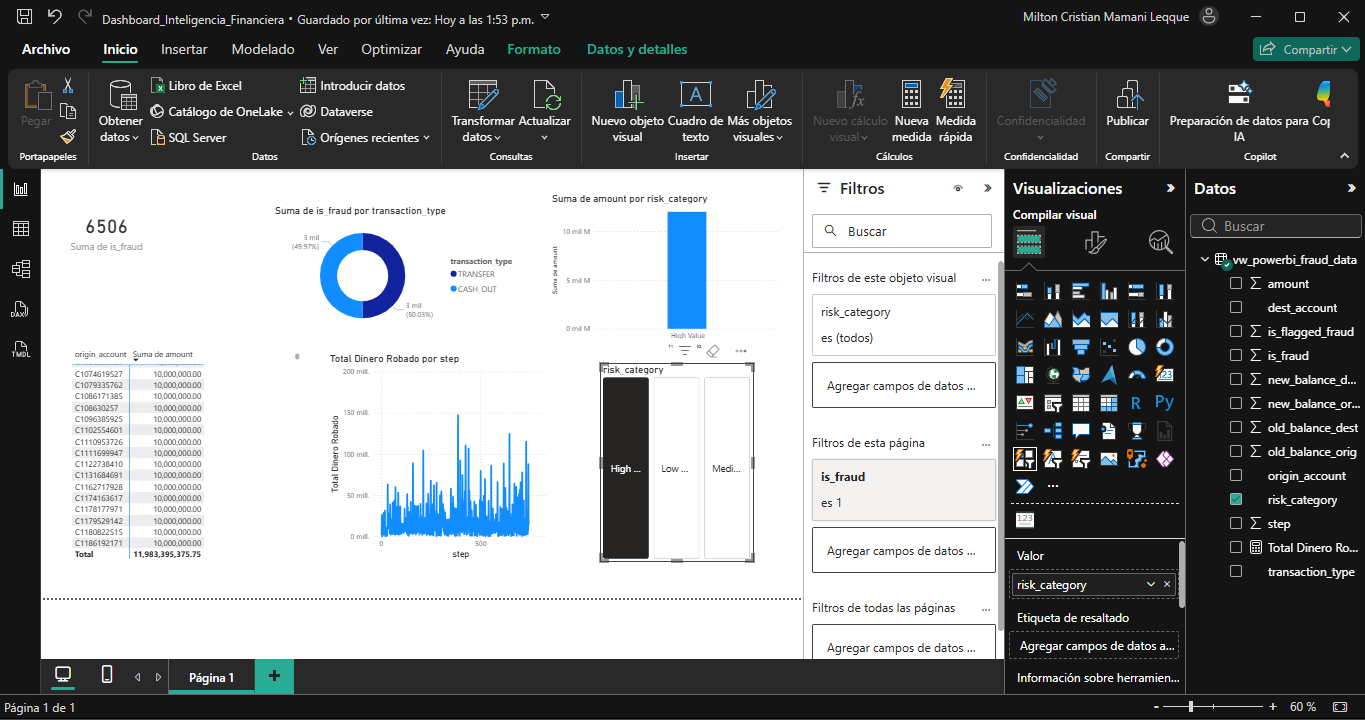

Layout of this report page (visuals, bound fields, positions):
{"tool":"powerbi","page":{"name":"Página 1","canvas":[1280,720],"ordinal":0},"visuals":[{"type":"advanceCardE03760C5AB684758B56AA29F9E6C257B","fields":{"mainMeasure":["Sum(vw_powerbi_fraud_data.is_fraud)"]},"box":[10.1,0,199.9,215],"z":0},{"type":"donutChart","fields":{"Category":["vw_powerbi_fraud_data.transaction_type"],"Y":["Sum(vw_powerbi_fraud_data.is_fraud)"]},"box":[388,58.8,423.3,221.7],"z":1000},{"type":"clusteredColumnChart","fields":{"Category":["vw_powerbi_fraud_data.risk_category"],"Y":["Sum(vw_powerbi_fraud_data.amount)"]},"box":[853.3,38.6,393.1,268.8],"z":2000},{"type":"pivotTable","fields":{"Values":["Sum(vw_powerbi_fraud_data.amount)"],"Rows":["vw_powerbi_fraud_data.origin_account"]},"box":[47,295.6,393.1,364.5],"z":2001},{"type":"lineChart","fields":{"Y":["vw_powerbi_fraud_data.Total Dinero Robado"],"Category":["vw_powerbi_fraud_data.step"]},"box":[480.4,307.4,372.9,352.8],"z":2002},{"type":"advancedSlicerVisual","fields":{"Values":["vw_powerbi_fraud_data.risk_category"]},"box":[939,325.9,258.7,334.3],"z":2003}]}

Visuals, with their boxes on the page's 1280x720 design canvas (x1, y1, x2, y2). These are canvas units, not pixel positions in the 1365x720 screenshot, which may show the page scaled, cropped or inside an application window:
advanceCardE03760C5AB684758B56AA29F9E6C257B - Sum(vw_powerbi_fraud_data.is_fraud): BBox(10, 0, 210, 215)
donutChart - vw_powerbi_fraud_data.transaction_type x Sum(vw_powerbi_fraud_data.is_fraud): BBox(388, 59, 811, 280)
clusteredColumnChart - vw_powerbi_fraud_data.risk_category x Sum(vw_powerbi_fraud_data.amount): BBox(853, 39, 1246, 307)
pivotTable - Sum(vw_powerbi_fraud_data.amount) x vw_powerbi_fraud_data.origin_account: BBox(47, 296, 440, 660)
lineChart - vw_powerbi_fraud_data.Total Dinero Robado x vw_powerbi_fraud_data.step: BBox(480, 307, 853, 660)
advancedSlicerVisual - vw_powerbi_fraud_data.risk_category: BBox(939, 326, 1198, 660)
